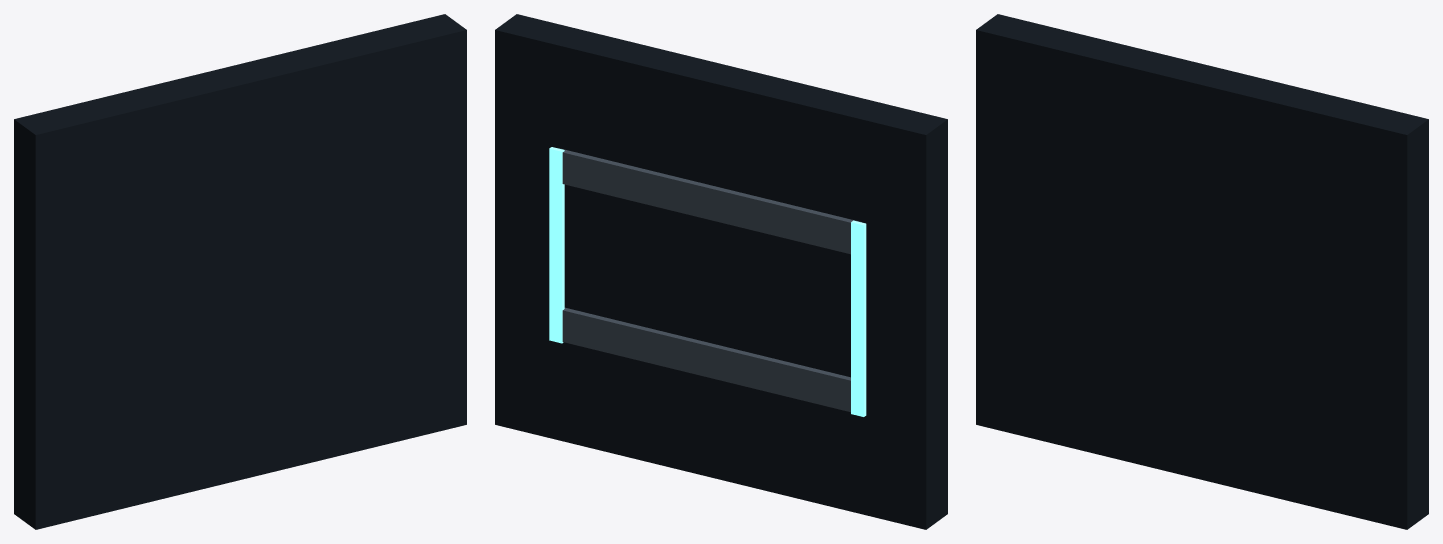
Rendered from np_kms_19_porte_laboratoire_extraction.glb.
The picture shows the model from 3 angles, left to right: view 1: azimuth 30°, elevation 25°; view 2: azimuth 150°, elevation 25°; view 3: azimuth 330°, elevation 25°; orthographic projection.
Parts seen in each view (by area): view 1: Panneau; view 2: Panneau, RenfortHaut, RenfortBas, GuideGauche, GuideDroit; view 3: Panneau.
Part boxes in pixels (x1,y1,x2,y2): Panneau: (14, 14, 466, 529); Panneau: (495, 14, 947, 529); RenfortHaut: (560, 148, 861, 254); RenfortBas: (562, 307, 850, 412); GuideGauche: (851, 220, 866, 416); GuideDroit: (549, 147, 564, 343); Panneau: (976, 14, 1428, 529).
Size of the model in its own units: 4 by 3.5 by 0.415.
